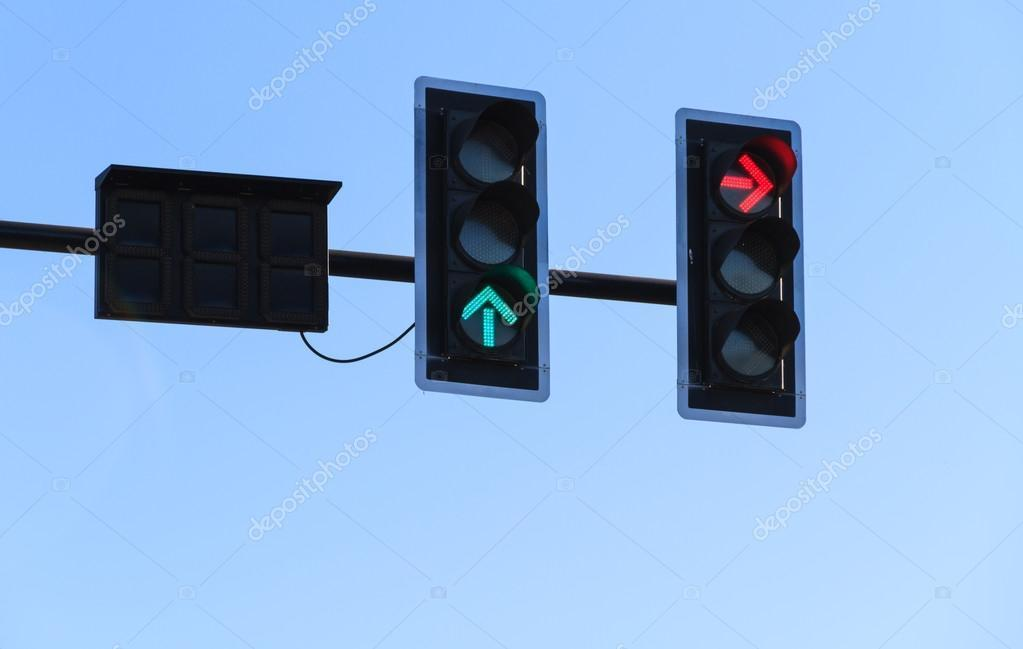green: (412, 78, 557, 400)
